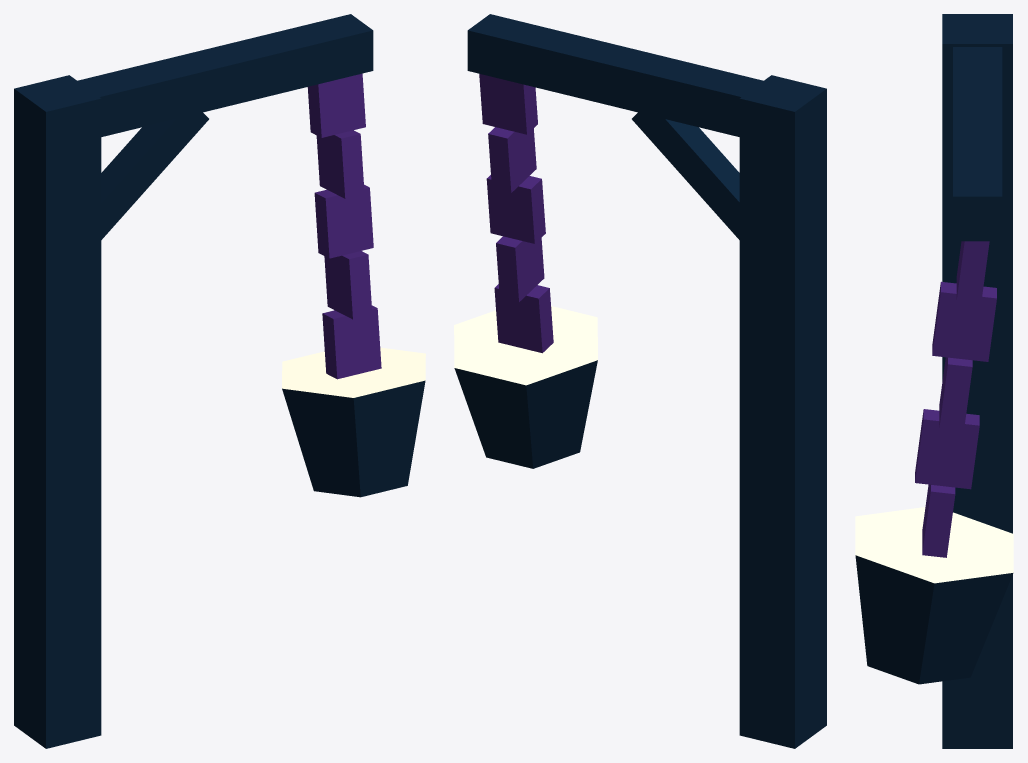
File: crane.glb
The picture shows the model from 3 angles, left to right: view 1: azimuth 30°, elevation 25°; view 2: azimuth 150°, elevation 25°; view 3: azimuth 270°, elevation 25°; orthographic projection. The views are drawn at different scales.
Visible parts, largest first — view 1: Post, Crucible; view 2: Post, Crucible; view 3: Crucible, Post.
Part boxes in pixels (x1,y1,x2,y2): Post: (14, 14, 373, 748); Crucible: (282, 73, 425, 497); Post: (467, 14, 826, 748); Crucible: (454, 74, 597, 468); Crucible: (855, 241, 1013, 684); Post: (942, 14, 1012, 748).
Size of the model in its own units: 1.36 by 2.2 by 0.447.
